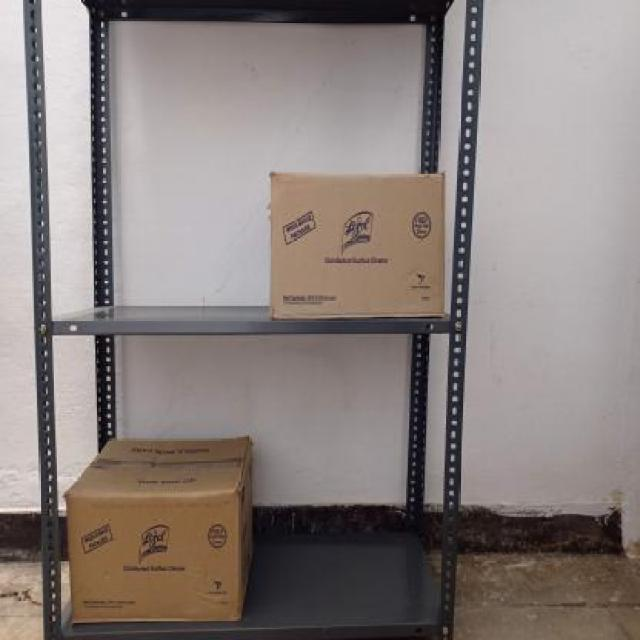box: (268, 172, 447, 316), (70, 488, 239, 624)
